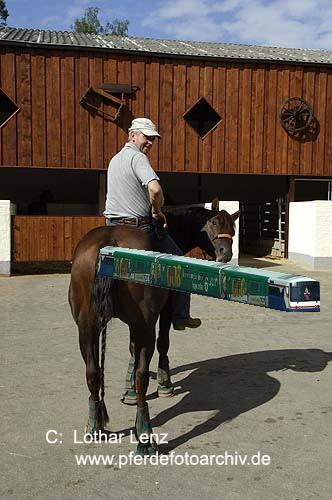tampered: (98, 247, 320, 312)
